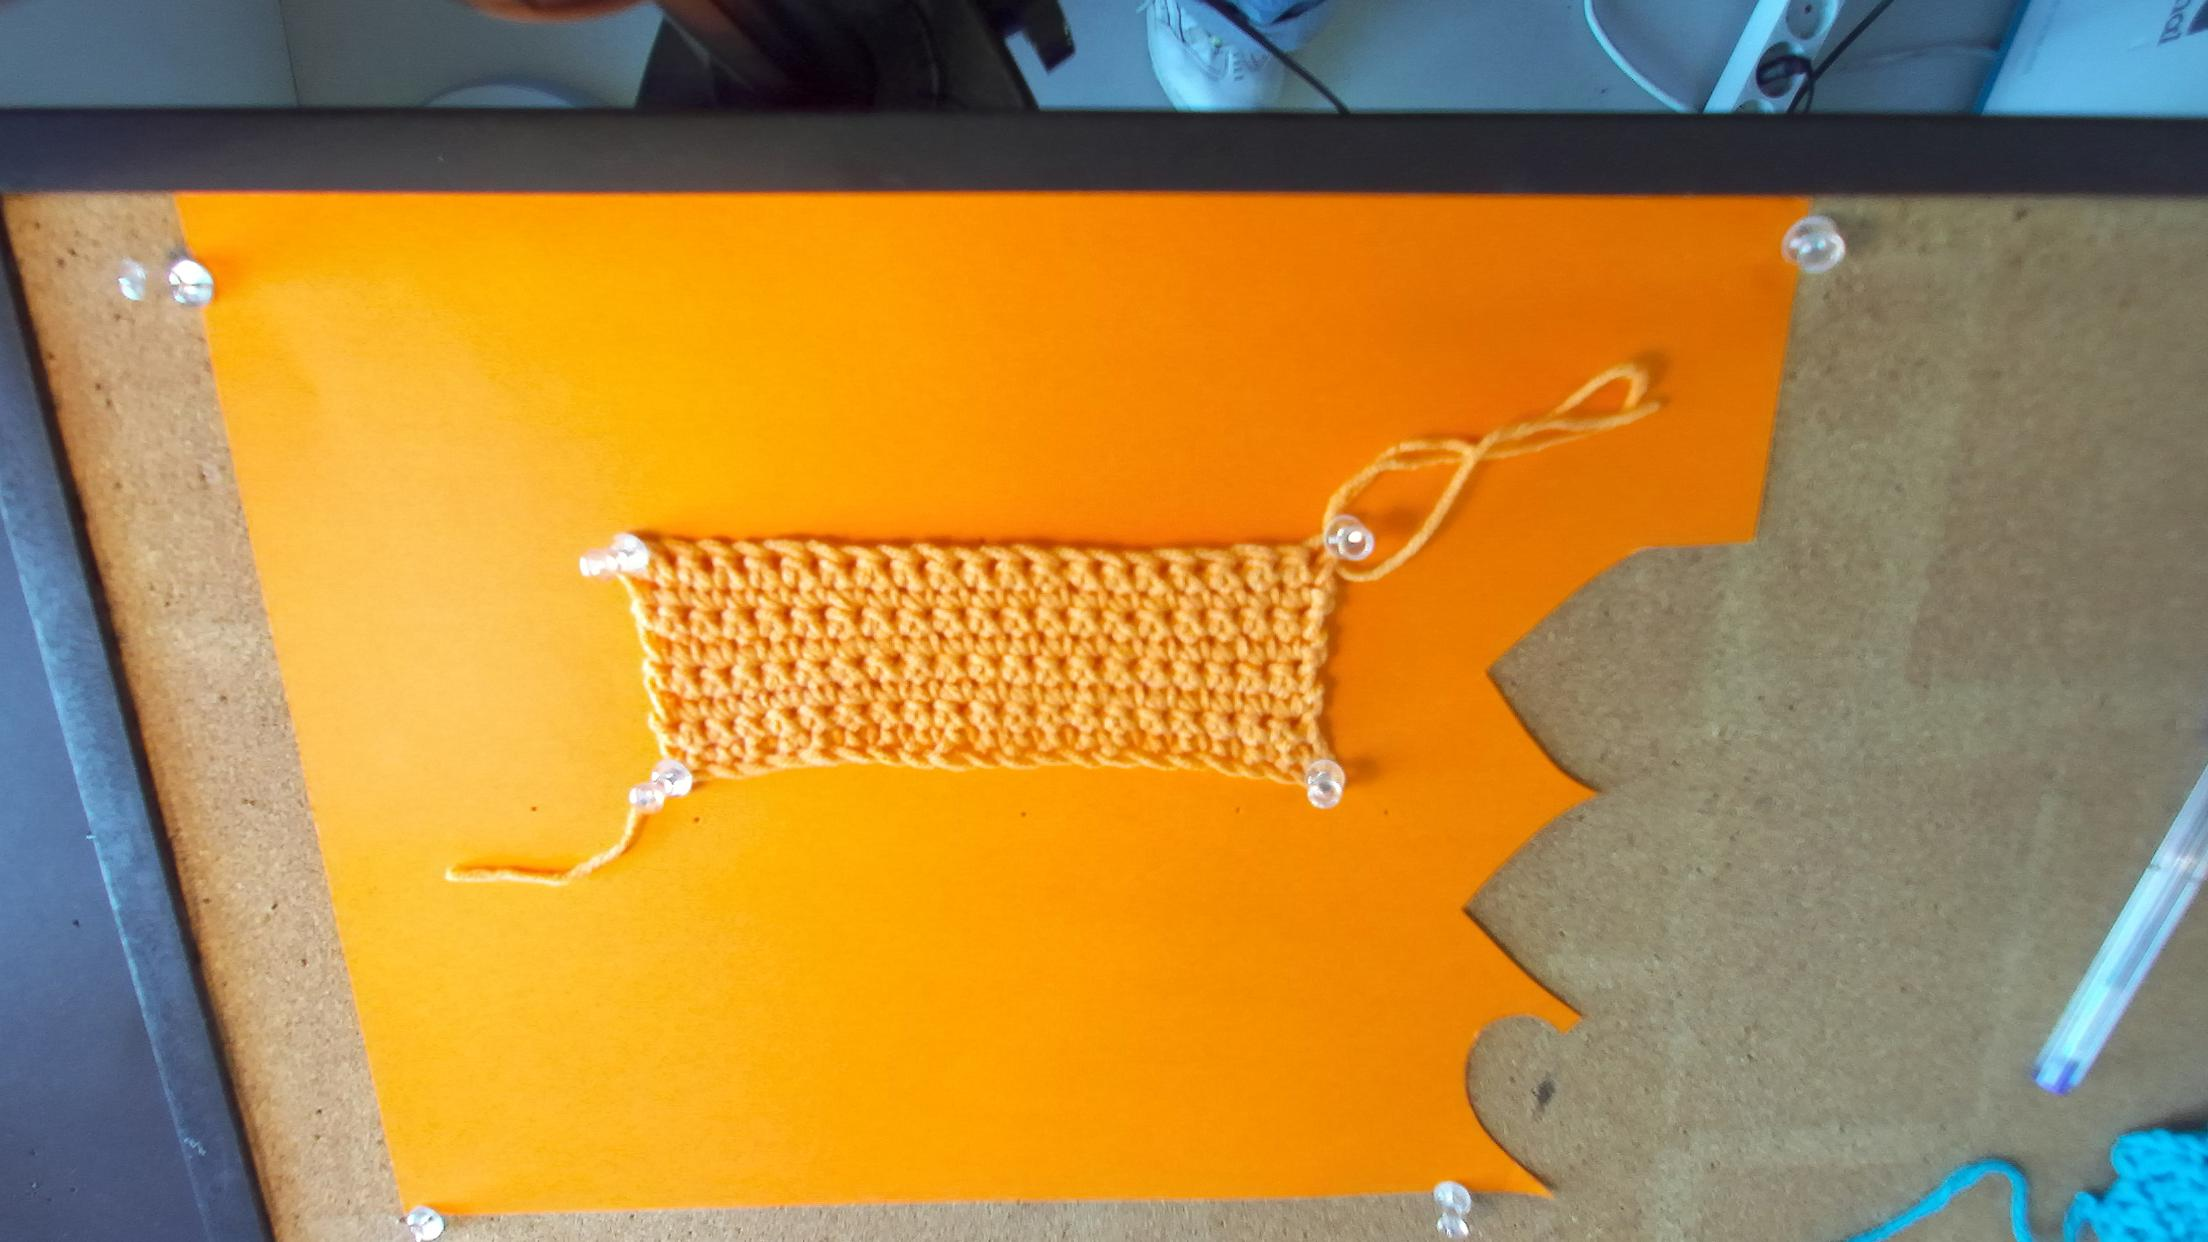hole: (734, 552, 748, 575), (700, 552, 714, 574), (1123, 560, 1137, 582), (767, 552, 782, 572), (986, 557, 1000, 578), (1021, 559, 1035, 578), (808, 554, 820, 576), (664, 550, 679, 567), (916, 554, 928, 575), (1157, 561, 1171, 579), (1309, 548, 1323, 566), (952, 558, 966, 575), (1089, 560, 1103, 577), (1193, 560, 1210, 574), (842, 558, 857, 573), (1231, 560, 1247, 574), (881, 559, 893, 574), (1057, 559, 1069, 573), (1272, 557, 1283, 570)
swatch: (579, 530, 1363, 820)
